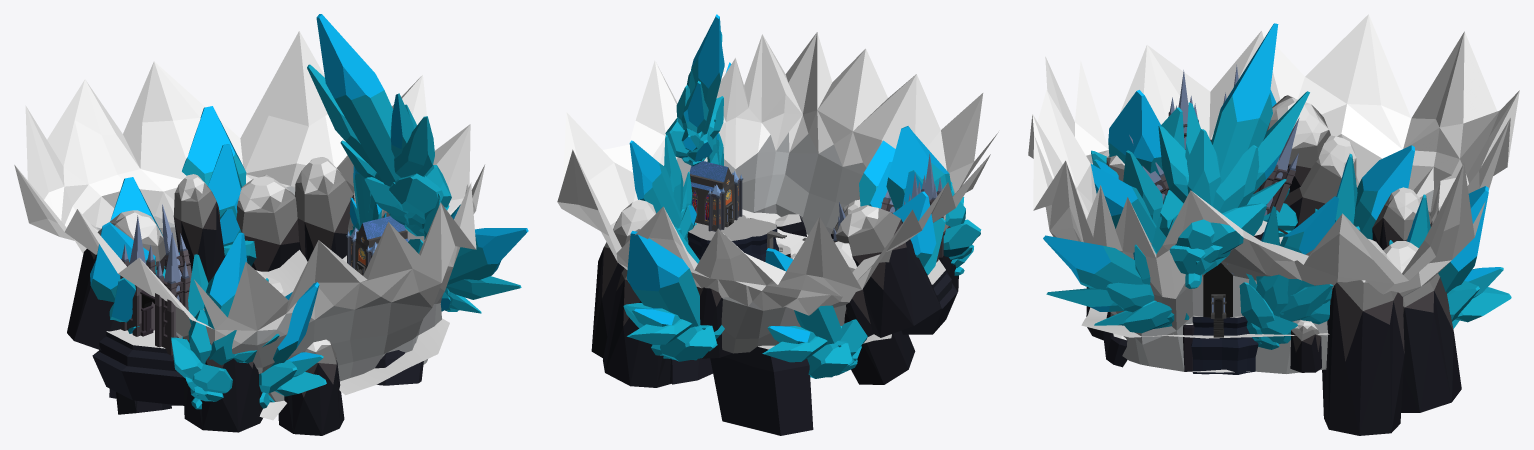
Rendered from LEVEL_NEU_6.fbx.
The picture shows the model from 3 angles, left to right: view 1: azimuth 30°, elevation 25°; view 2: azimuth 150°, elevation 25°; view 3: azimuth 270°, elevation 25°; orthographic projection. The views are drawn at different scales.
Parts seen in each view (by area): view 1: Boden und Berge, Sphere.007, Sphere.001, Plateau1, Sphere.004, Cylinder.008, Cylinder.010, Sphere.006, Cylinder.006, Cylinder.007, Cylinder.005, Cylinder.003 (+12 smaller); view 2: Boden und Berge, Sphere.004, Cylinder.006, Plateau 9.009, Sphere.003, Sphere.007, Sphere.001, Cylinder.008, Sphere.005, Cylinder.009, Cylinder.010, Plateau 8 (+10 smaller); view 3: Boden und Berge, Sphere.007, Cylinder.010, Sphere.006, Cylinder.008, Sphere.005, Sphere.004, Sphere.003, Sphere.001, Plateau 8, Sphere.000, Cylinder.009 (+9 smaller).
Part boxes in pixels (x1=…): Boden und Berge: x1=14, y1=31, x2=485, y2=401; Sphere.007: x1=307, y1=14, x2=451, y2=236; Sphere.001: x1=171, y1=232, x2=279, y2=409; Plateau1: x1=92, y1=329, x2=184, y2=405; Sphere.004: x1=179, y1=106, x2=256, y2=266; Cylinder.008: x1=236, y1=174, x2=299, y2=271; Cylinder.010: x1=295, y1=157, x2=354, y2=261; Sphere.006: x1=408, y1=193, x2=528, y2=313; Cylinder.006: x1=67, y1=210, x2=165, y2=350; Cylinder.007: x1=173, y1=174, x2=224, y2=282; Cylinder.005: x1=182, y1=308, x2=262, y2=432; Cylinder.003: x1=278, y1=339, x2=344, y2=435; Boden und Berge: x1=557, y1=32, x2=998, y2=353; Sphere.004: x1=623, y1=226, x2=724, y2=361; Cylinder.006: x1=836, y1=205, x2=941, y2=337; Plateau 9.009: x1=710, y1=345, x2=813, y2=435; Sphere.003: x1=762, y1=248, x2=867, y2=378; Sphere.007: x1=665, y1=14, x2=724, y2=166; Sphere.001: x1=886, y1=126, x2=981, y2=275; Cylinder.008: x1=603, y1=268, x2=670, y2=387; Sphere.005: x1=629, y1=135, x2=696, y2=243; Cylinder.009: x1=835, y1=241, x2=915, y2=384; Cylinder.010: x1=591, y1=199, x2=656, y2=357; Plateau 8: x1=687, y1=215, x2=778, y2=261; Boden und Berge: x1=1028, y1=14, x2=1519, y2=373; Sphere.007: x1=1158, y1=23, x2=1309, y2=288; Cylinder.010: x1=1322, y1=239, x2=1404, y2=435; Sphere.006: x1=1043, y1=216, x2=1189, y2=333; Cylinder.008: x1=1383, y1=241, x2=1461, y2=412; Sphere.005: x1=1239, y1=196, x2=1338, y2=349; Sphere.004: x1=1389, y1=186, x2=1511, y2=328; Sphere.003: x1=1315, y1=145, x2=1414, y2=239; Sphere.001: x1=1091, y1=90, x2=1184, y2=178; Plateau 8: x1=1191, y1=315, x2=1258, y2=374; Sphere.000: x1=1091, y1=150, x2=1166, y2=243; Cylinder.009: x1=1283, y1=135, x2=1356, y2=228.
Size of the model in its own units: 94389 by 91467 by 97262.
